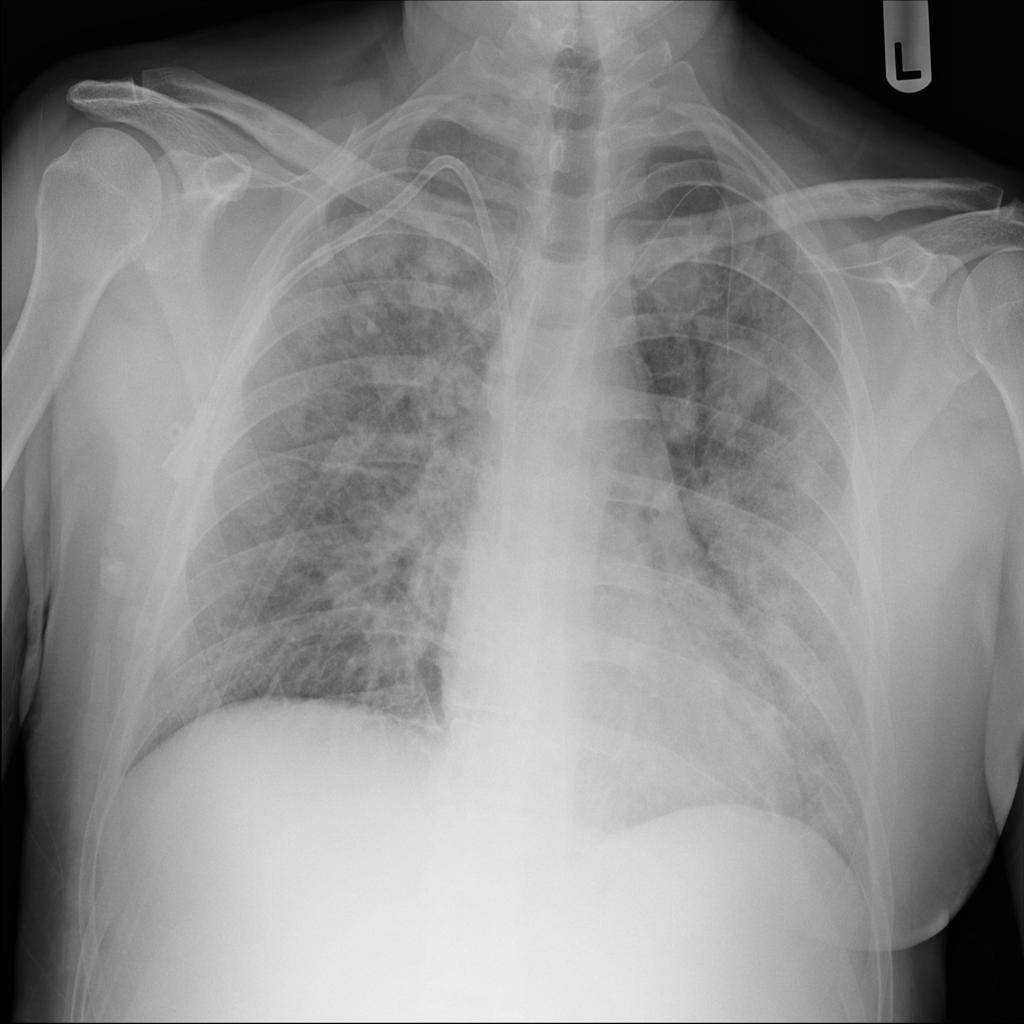nodule: (700, 318, 786, 440), (332, 206, 416, 278), (400, 234, 473, 306), (676, 638, 741, 715), (328, 278, 395, 352), (651, 381, 712, 454)
